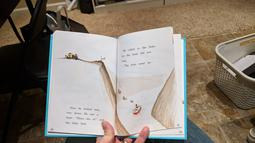text block: (118, 43, 165, 68), (62, 103, 105, 128)
